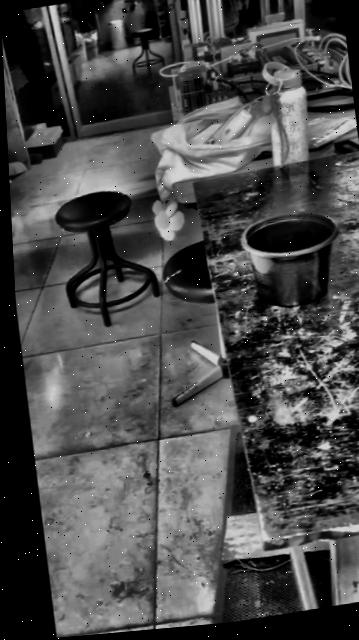pot: (239, 206, 345, 311)
